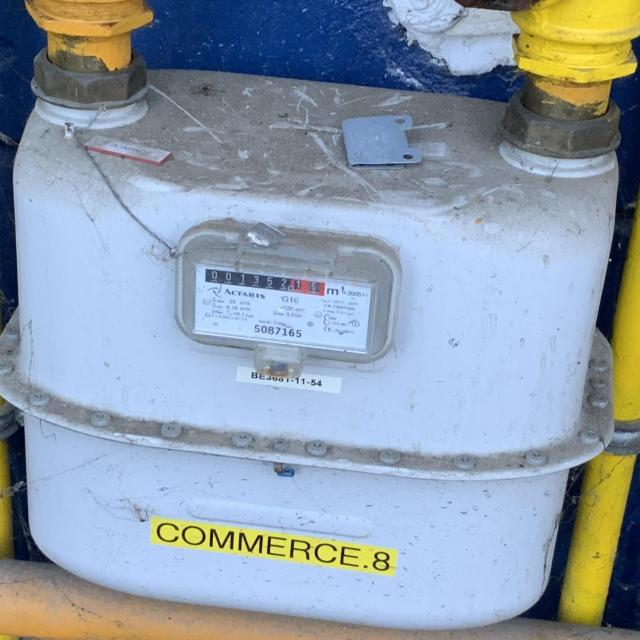gaz_meter: (188, 260, 375, 356)
indication: (205, 265, 326, 298)
